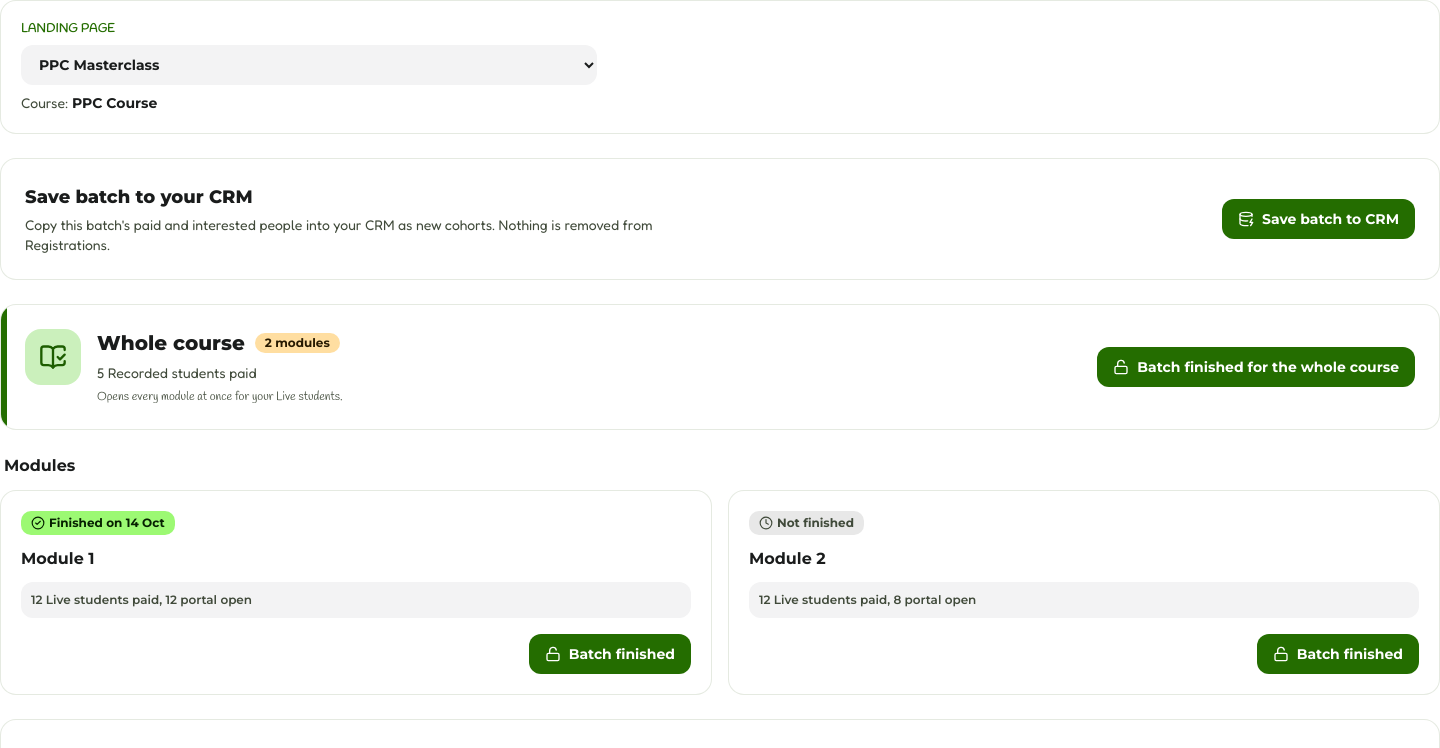
it: BatchAccessPanel › whole-course confirm makes no count claim
Expected: the heading "Module 2" is shown, x1=749 y1=549 x2=826 y2=568
Click the button "Batch finished for the whole course" at (1256, 367), box x1=1097 y1=347 x2=1415 y2=387
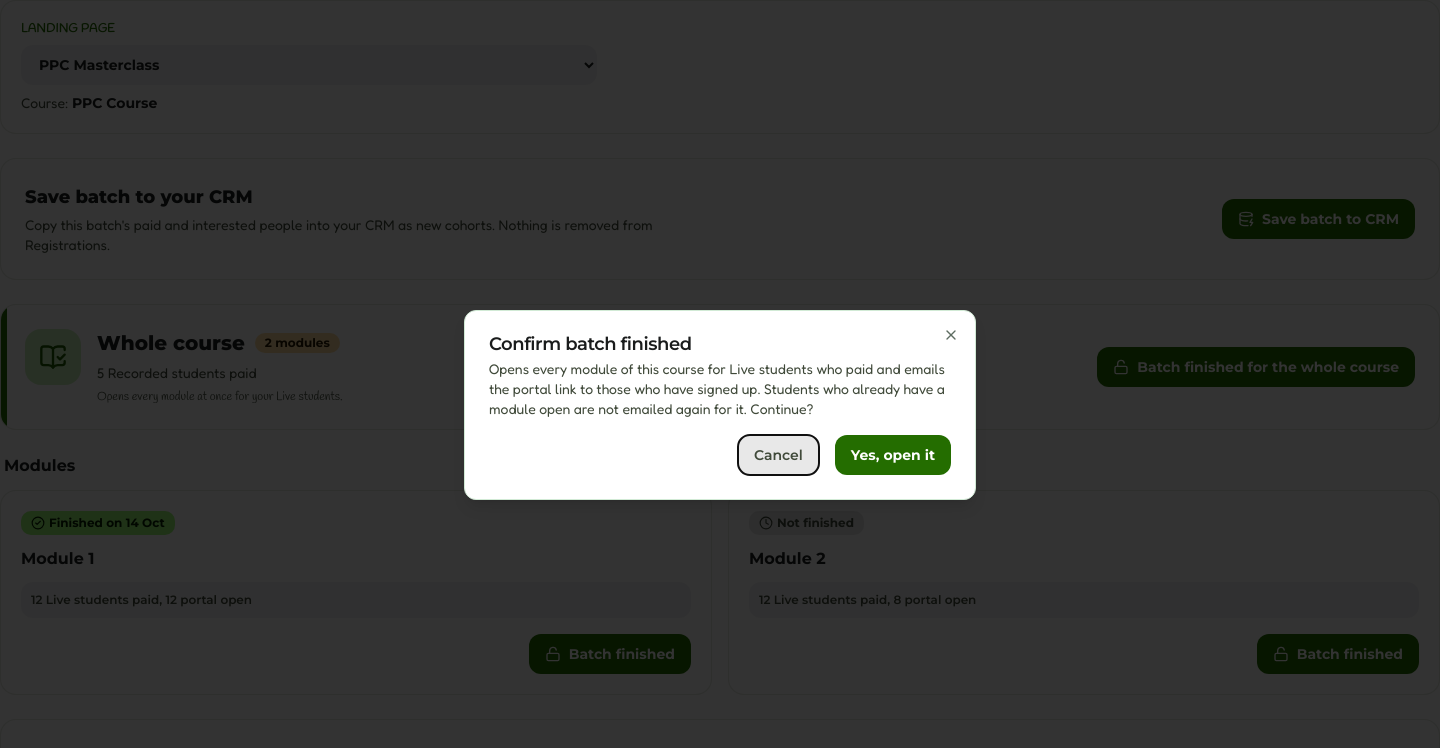
Now the text "Opens every module of this course for Live students who paid and emails the portal link to those who have signed up. St" is shown, box x1=489 y1=360 x2=945 y2=417
